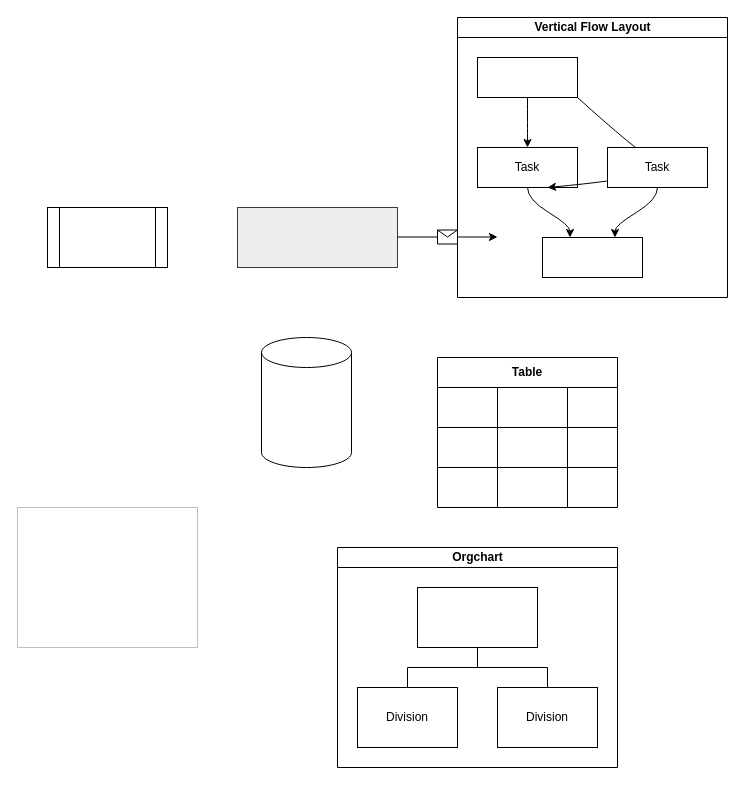
This 745x785 diagram has some shape labels left out. Each missing label, with the centre of its shape:
"End" goes at (x=592, y=257).
"Organization" goes at (x=477, y=617).
"Start" goes at (x=527, y=77).
"Value 1 Value 2 Value 3 Value 4 Value 5 Value 6 Value 7 Value 8 Value 9" goes at (x=107, y=577).
